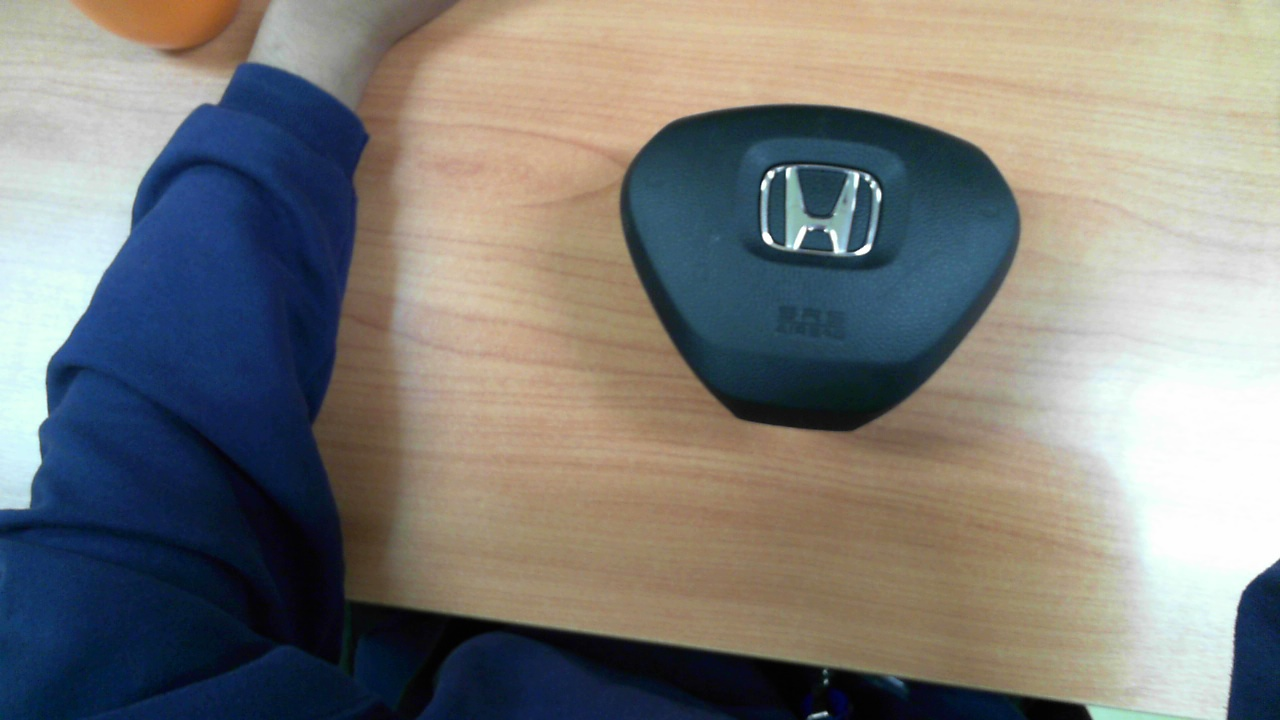Airbag: (623, 103, 1021, 431)
